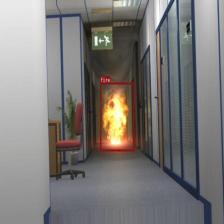fire: (100, 82, 134, 150)
